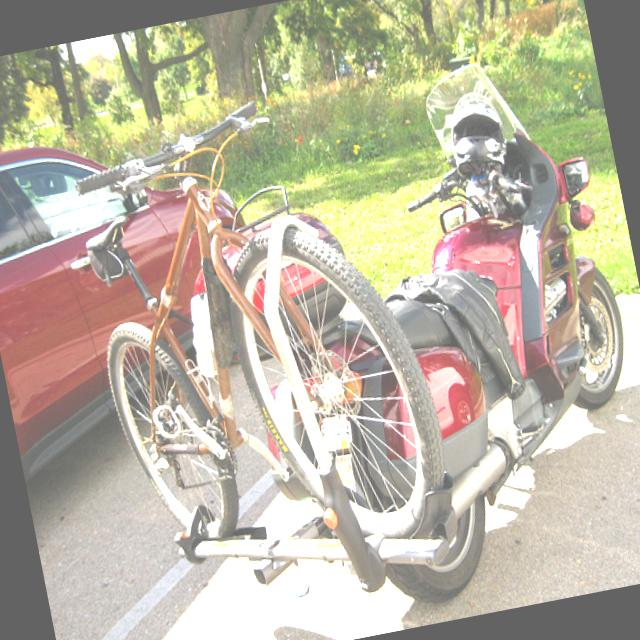Vehicle: (281, 43, 640, 617), (0, 129, 171, 454)
